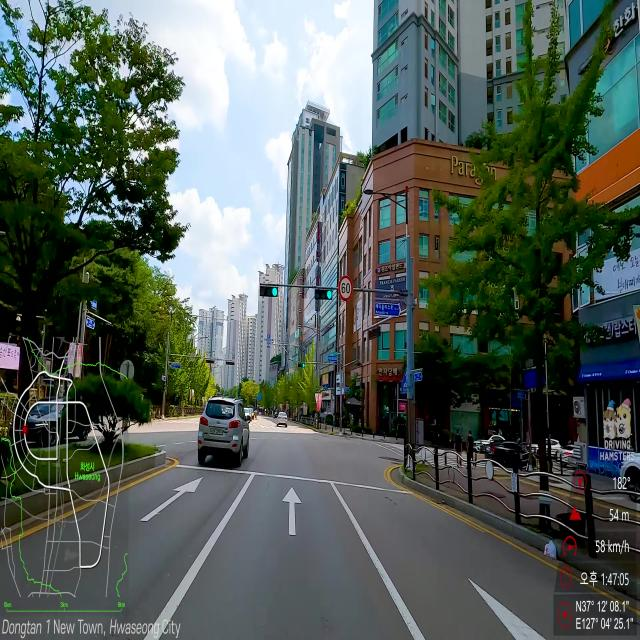Green Light: (272, 287, 278, 297), (327, 289, 332, 300)
